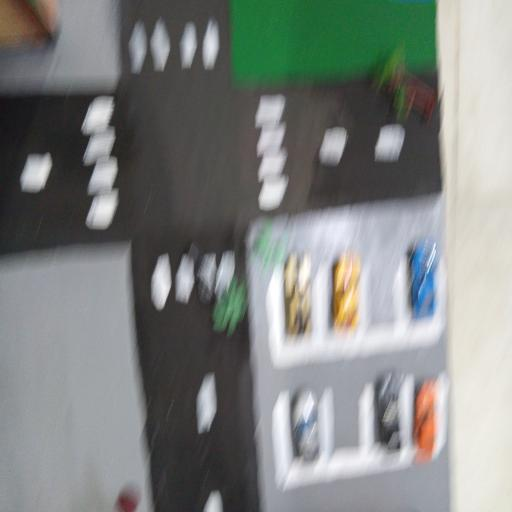fallen trees: (380, 47, 445, 139), (186, 248, 249, 337)
